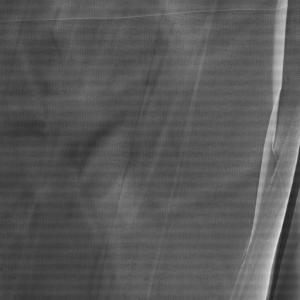Wrinkle: (1, 1, 222, 300), (228, 1, 300, 300)
